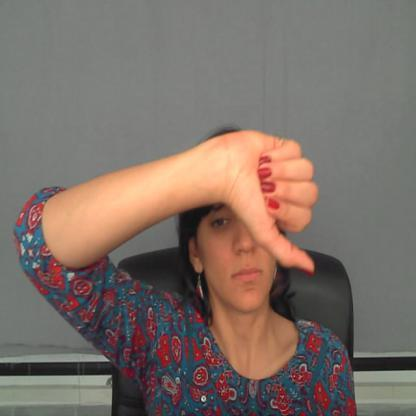thumbs-down: (230, 129, 318, 283)
